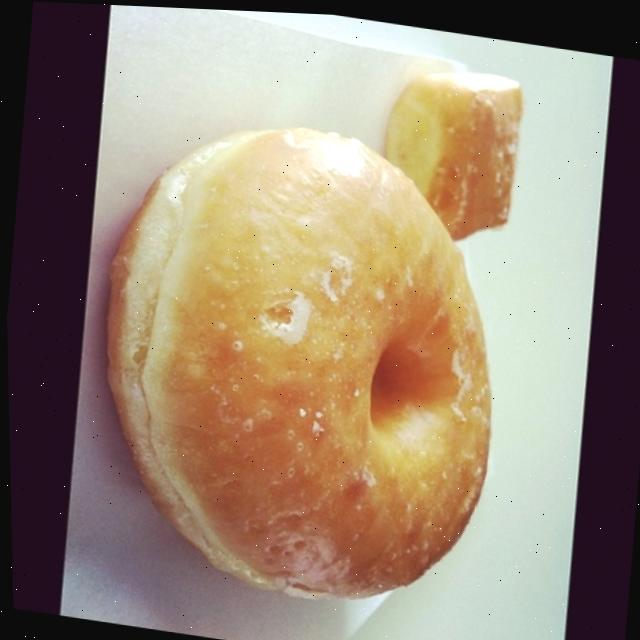炸货点心: (72, 70, 575, 628)
